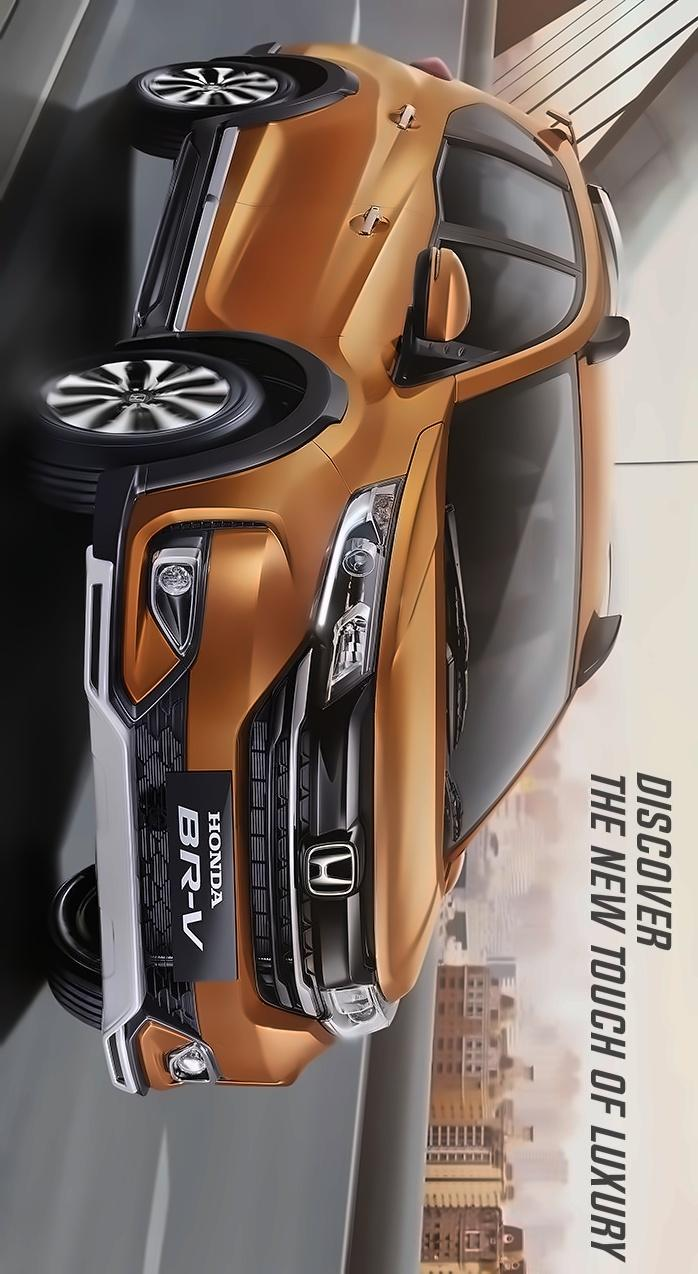Car hood: (364, 420, 462, 1007)
Driver-s door - -F-R-: (118, 184, 632, 394)
Fender - -F-R-: (88, 310, 460, 485)
Front bumper: (58, 434, 344, 1101)
Headlight - -L-: (318, 976, 390, 1046)
Headlight - -R-: (302, 474, 406, 707)
Passenger-s door - -R-R-: (144, 72, 632, 261)
Side bumper - -R-: (110, 106, 278, 342)
Side mirror - -R-: (396, 226, 470, 365)
